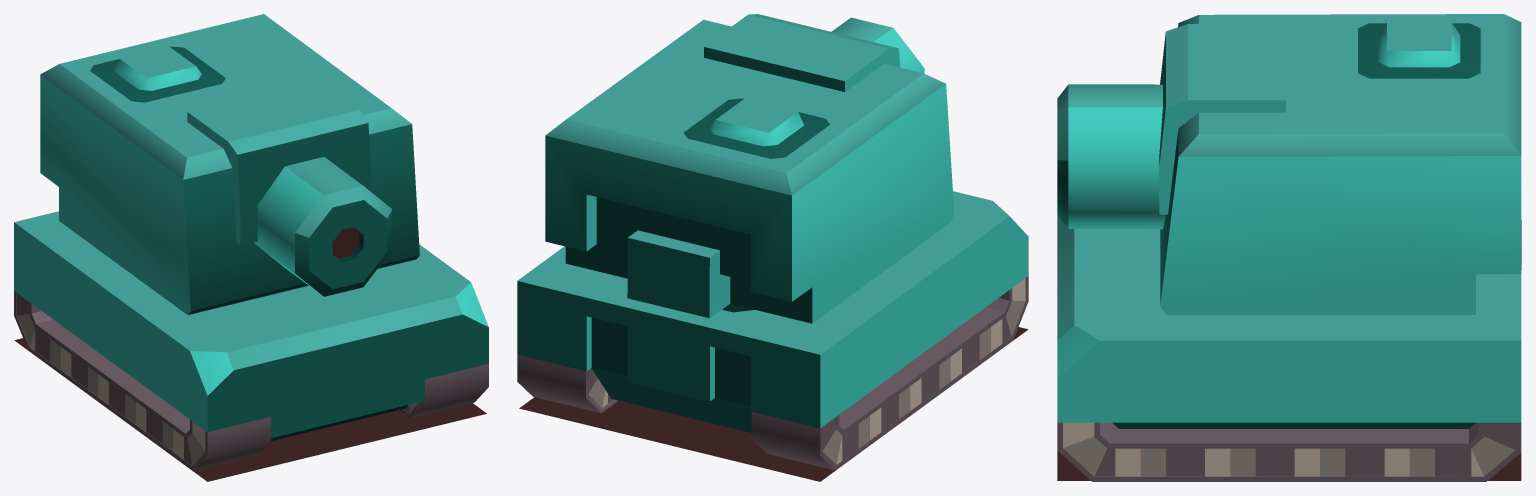
The model's file is MediumTankMesh.TealGalaxy.glb.
3 views of the same model, side by side, from view 1: azimuth 30°, elevation 25°; view 2: azimuth 150°, elevation 25°; view 3: azimuth 270°, elevation 25° (orthographic). The views are drawn at different scales.
Visible parts, largest first — view 1: MediumTankMesh.TealGalaxy; view 2: MediumTankMesh.TealGalaxy; view 3: MediumTankMesh.TealGalaxy.
Part boxes in pixels (box(x1,y1,x2,y2)): MediumTankMesh.TealGalaxy: box(14, 14, 488, 481); MediumTankMesh.TealGalaxy: box(517, 14, 1028, 481); MediumTankMesh.TealGalaxy: box(1057, 14, 1521, 481).
Size of the model in its own units: 1.72 by 1.66 by 2.05.
1 material, 1 textured.
